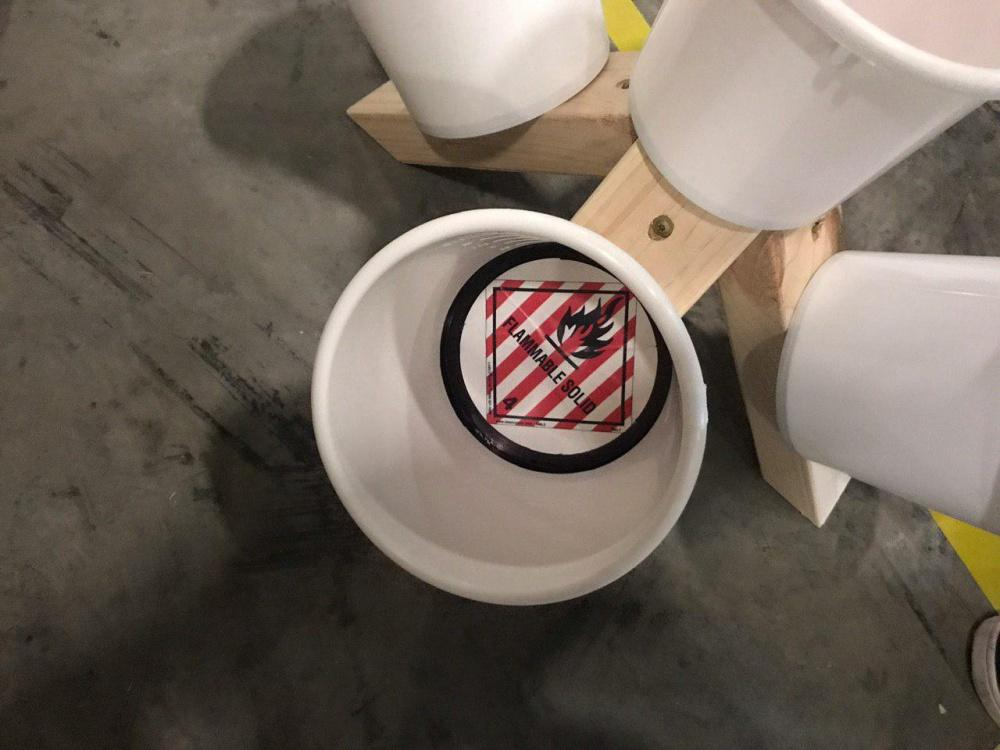flammable-solid: (484, 280, 640, 433)
